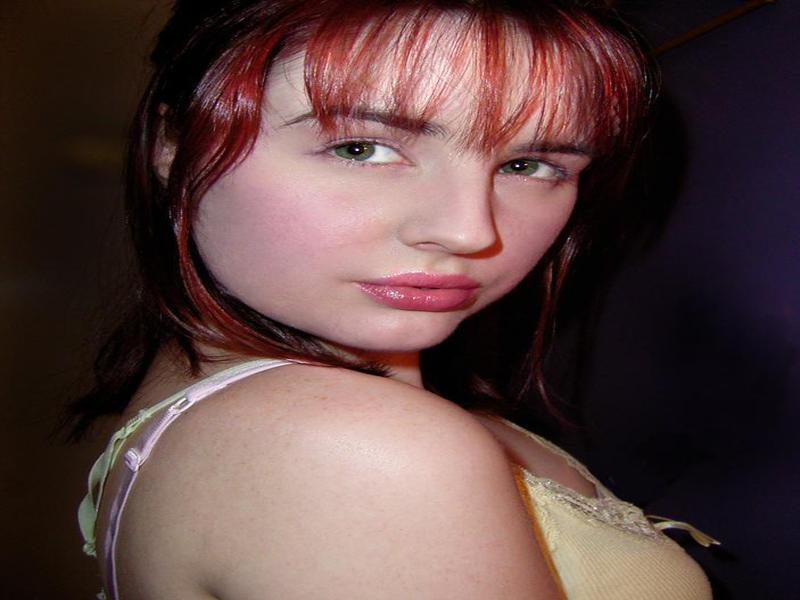person: (77, 3, 715, 600)
